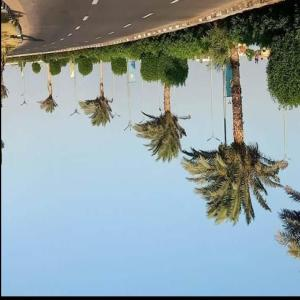palm tree: (180, 28, 289, 226), (132, 48, 191, 163), (78, 57, 119, 127)
